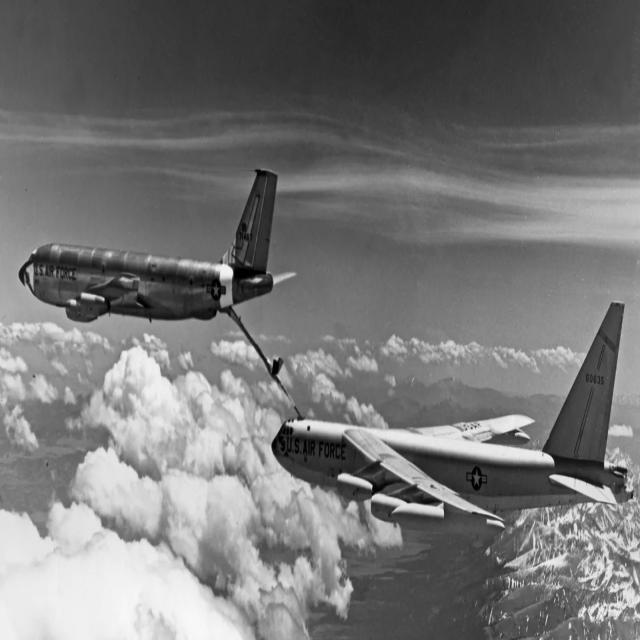B52: (269, 314, 640, 599), (7, 131, 300, 381)
